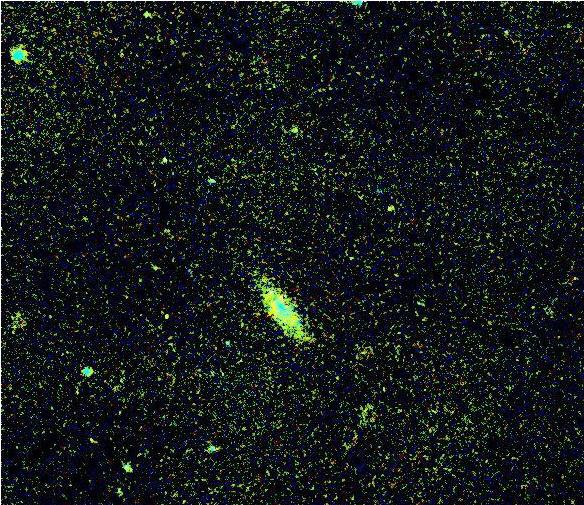star: (376, 189, 406, 219)
